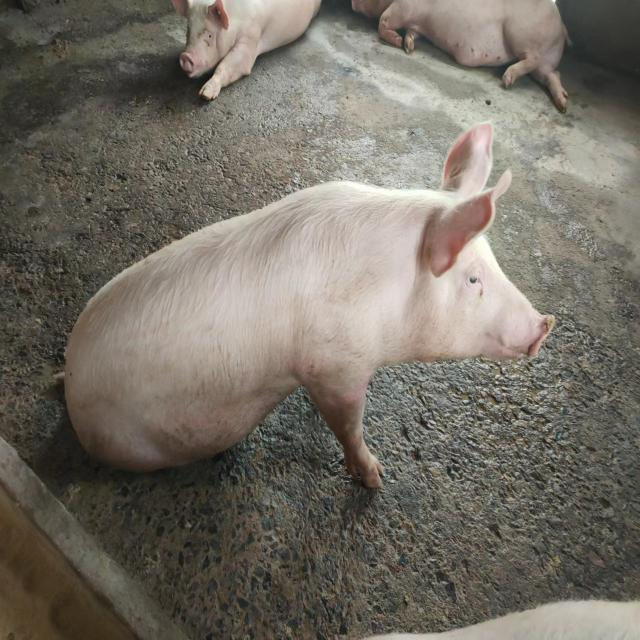pig: (65, 124, 554, 488), (352, 0, 568, 111), (173, 0, 321, 99)
